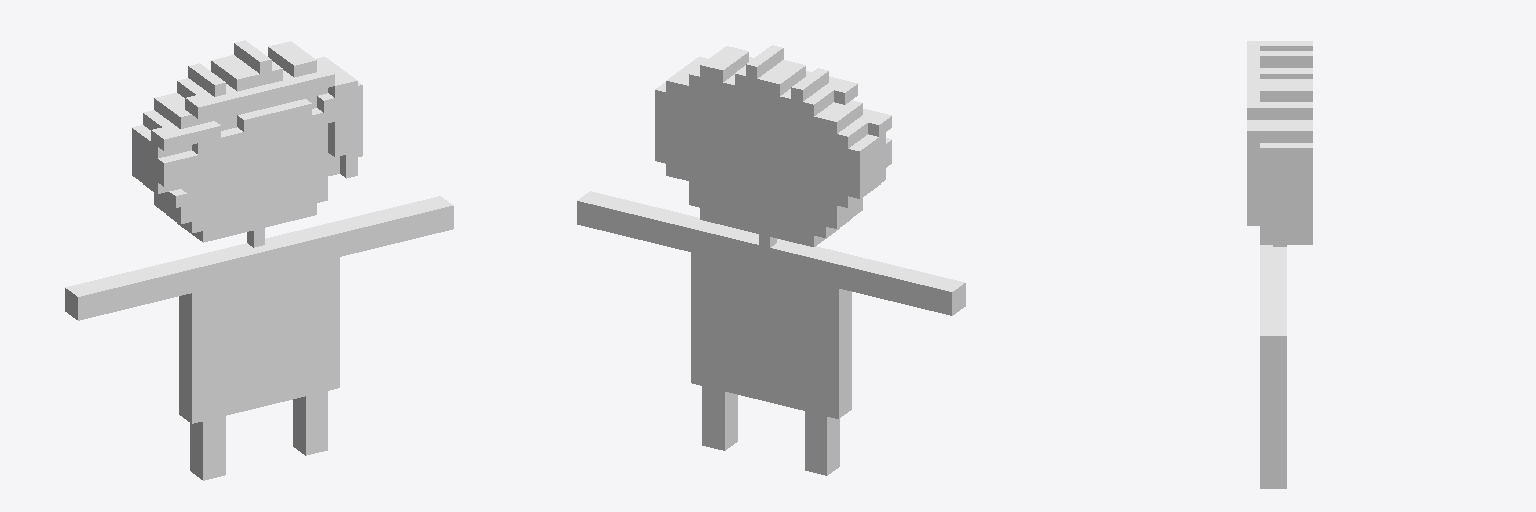
Rendered from Kid2.obj.
3 renders of one model, left to right at view 1: azimuth 30°, elevation 25°; view 2: azimuth 150°, elevation 25°; view 3: azimuth 270°, elevation 25°, orthographic.
Parts seen in each view (by area): view 1: Kid2; view 2: Kid2; view 3: Kid2.
Part boxes in pixels (left/top/right/bottom): Kid2: left=65, top=40, right=453, bottom=480; Kid2: left=577, top=45, right=965, bottom=475; Kid2: left=1247, top=41, right=1312, bottom=488.
Bounding box in the file's own units: 33 × 34 × 5.